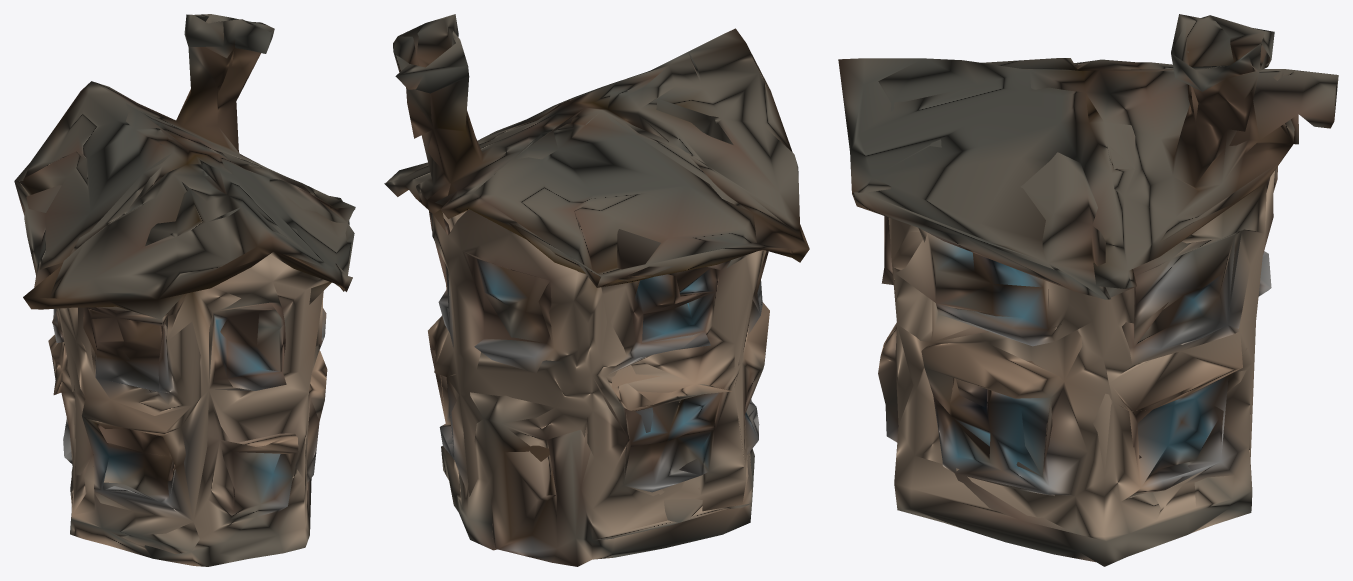
The model's file is gen3d-crooked-house-lod0.glb.
3 renders of one model, left to right at view 1: azimuth 30°, elevation 25°; view 2: azimuth 150°, elevation 25°; view 3: azimuth 270°, elevation 25°, orthographic. The views are drawn at different scales.
Visible parts, largest first — view 1: part_0; view 2: part_0; view 3: part_0.
Part boxes in pixels (x1,y1,x2,y2): part_0: [14, 14, 355, 566]; part_0: [384, 14, 809, 566]; part_0: [838, 14, 1338, 566].
Bounding box in the file's own units: 0.8476 × 0.9981 × 0.8558.
